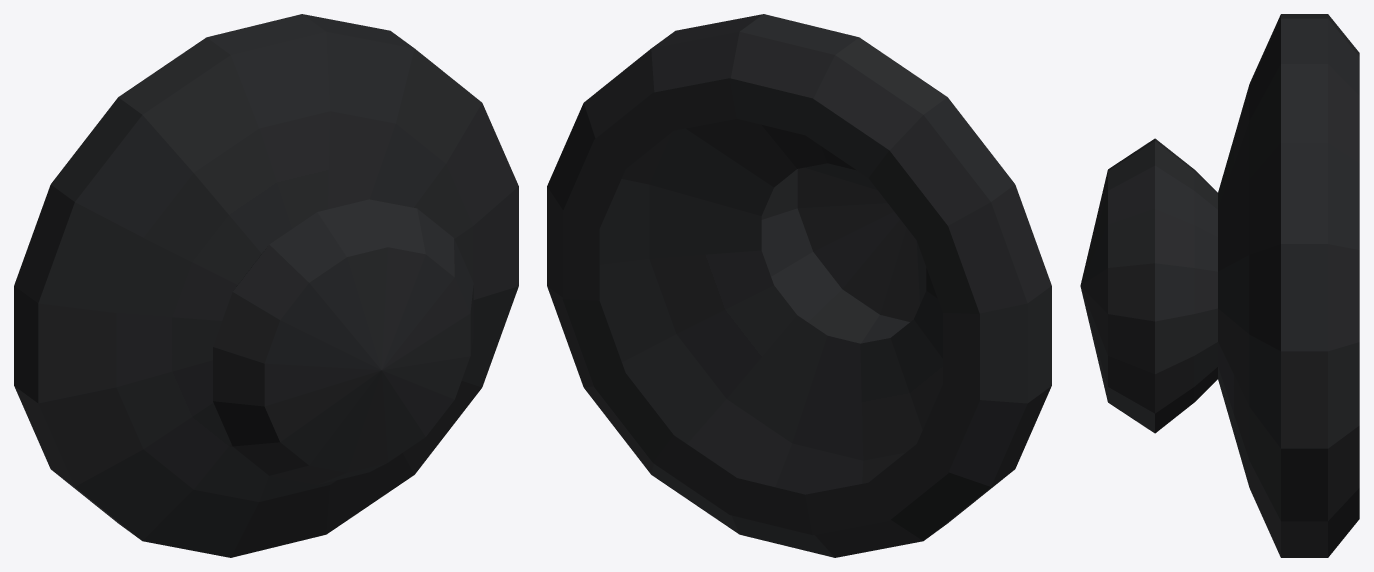
File: decopole_reprofluted_cap_s.obj
The picture shows the model from 3 angles, left to right: view 1: azimuth 30°, elevation 25°; view 2: azimuth 150°, elevation 25°; view 3: azimuth 270°, elevation 25°; orthographic projection. The views are drawn at different scales.
Parts seen in each view (by area): view 1: decopole_reprofluted_cap_s; view 2: decopole_reprofluted_cap_s; view 3: decopole_reprofluted_cap_s.
Part boxes in pixels (box(x1,y1,x2,y2)): decopole_reprofluted_cap_s: box(14, 14, 518, 557); decopole_reprofluted_cap_s: box(547, 14, 1051, 557); decopole_reprofluted_cap_s: box(1080, 14, 1359, 557).
Bounding box in the file's own units: 0.4291 × 0.4291 × 0.2219.
